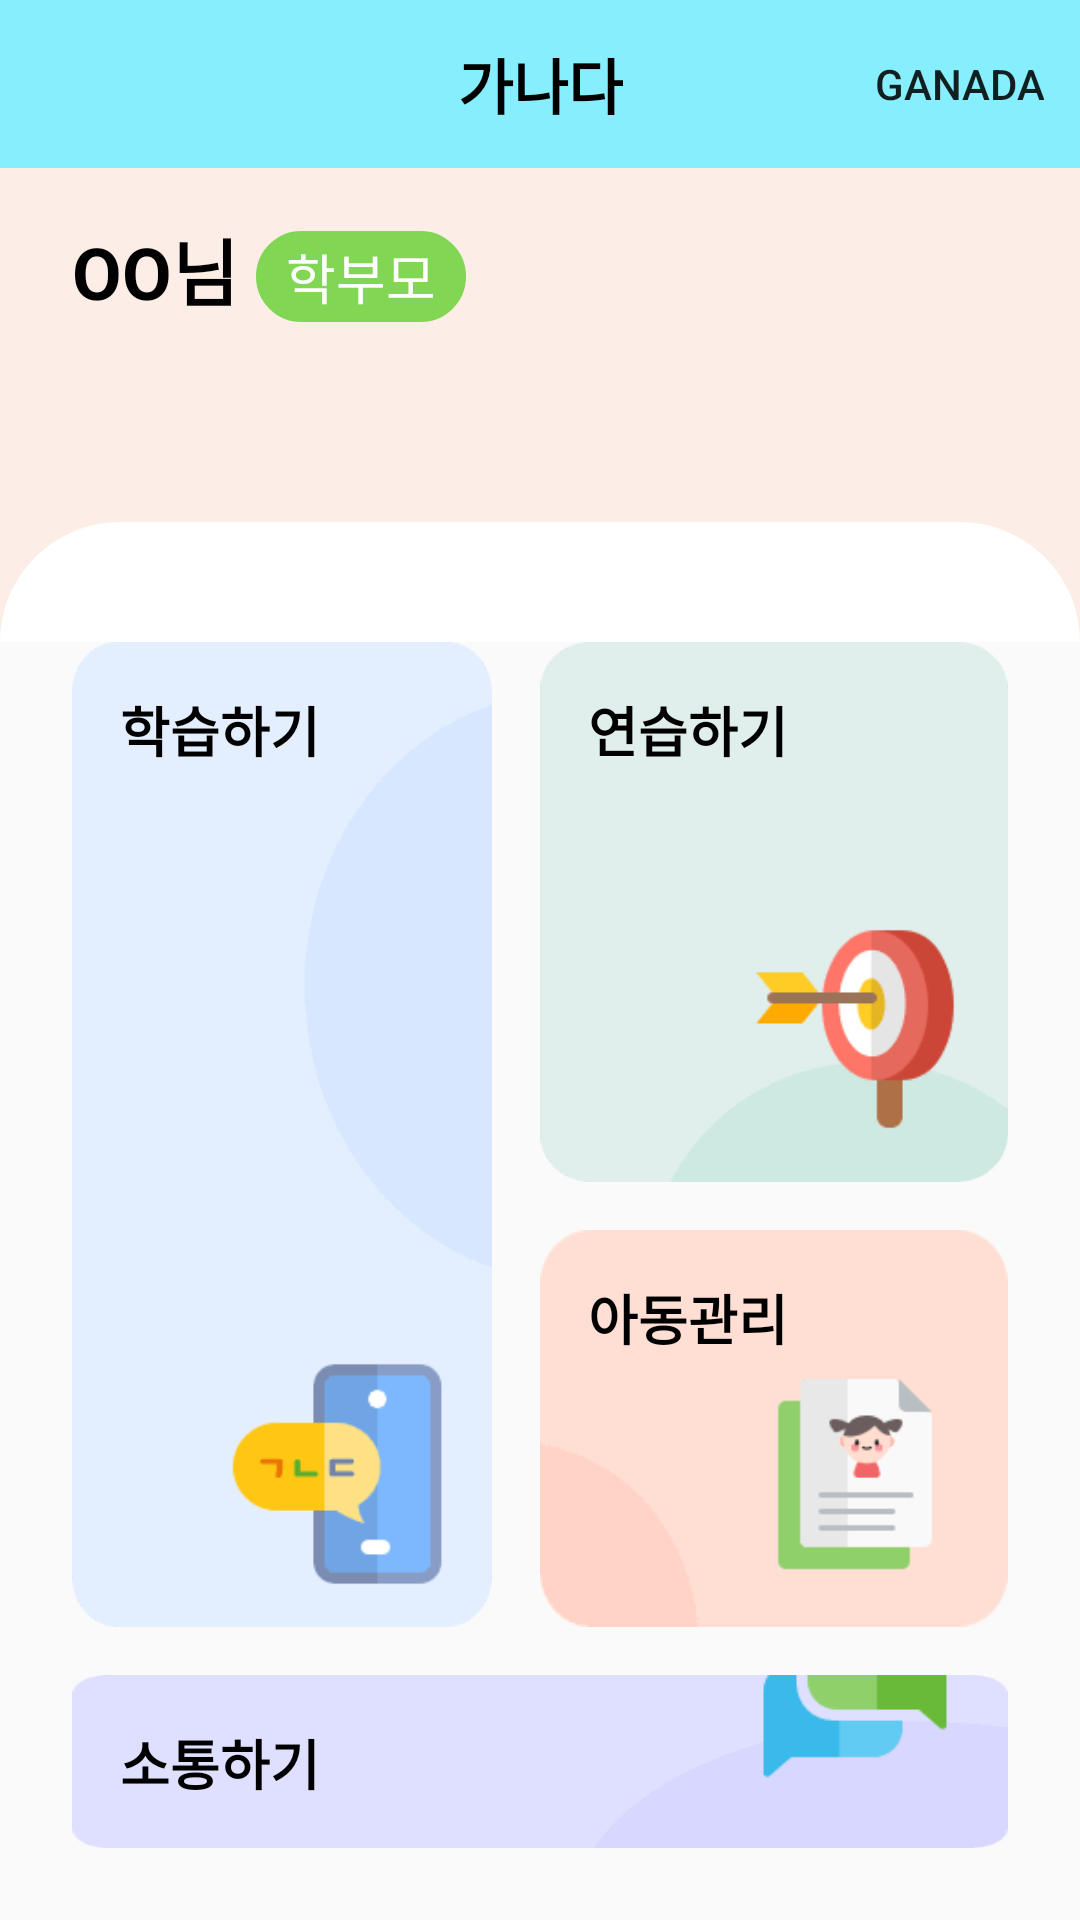

Named icons in this screenshot (1080w x 1920h) and their bounding boxes, (x1, y1, x2, y2):
practice: (756, 930, 954, 1128)
study: (232, 1364, 442, 1584)
